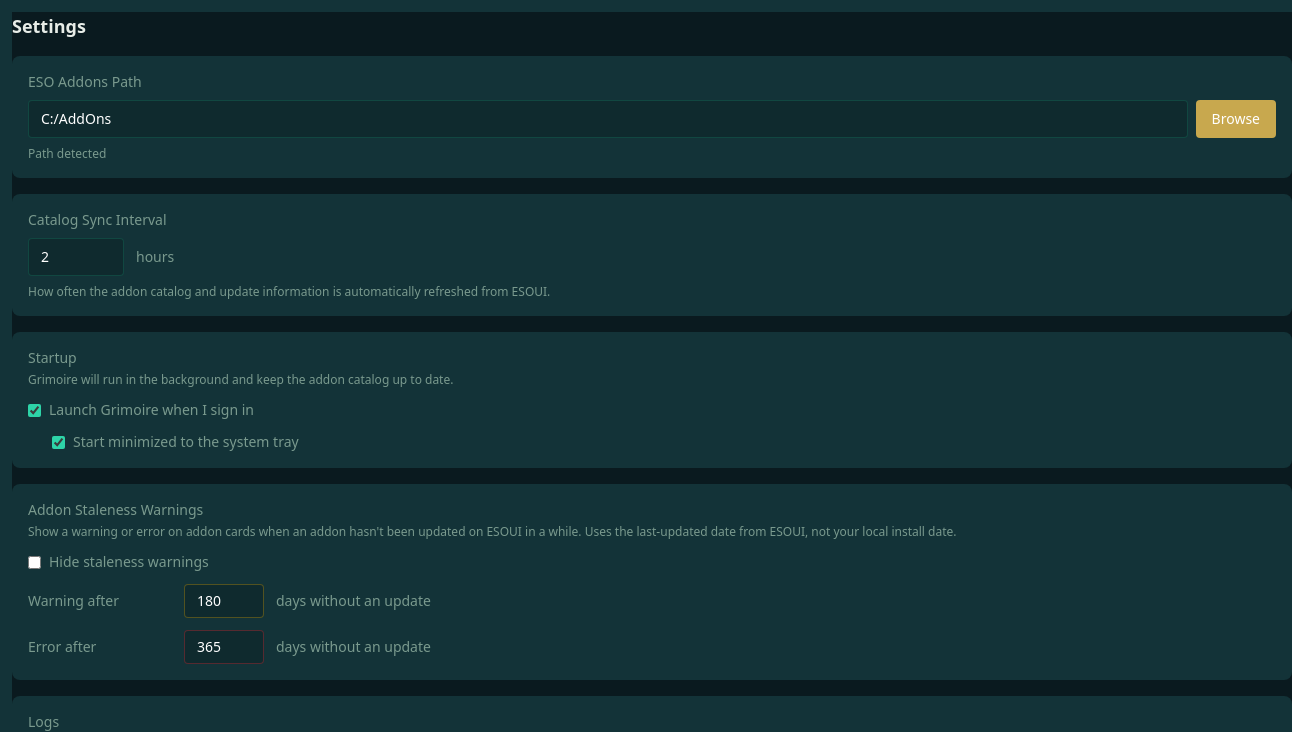
Test case: SettingsPage startup › disables launch at login
Expected: the text "Path detected" is shown, [28, 145, 106, 162]
Click the checkbox labelled "Launch Grimoire when I sign in" at (34, 410), box [28, 404, 41, 416]
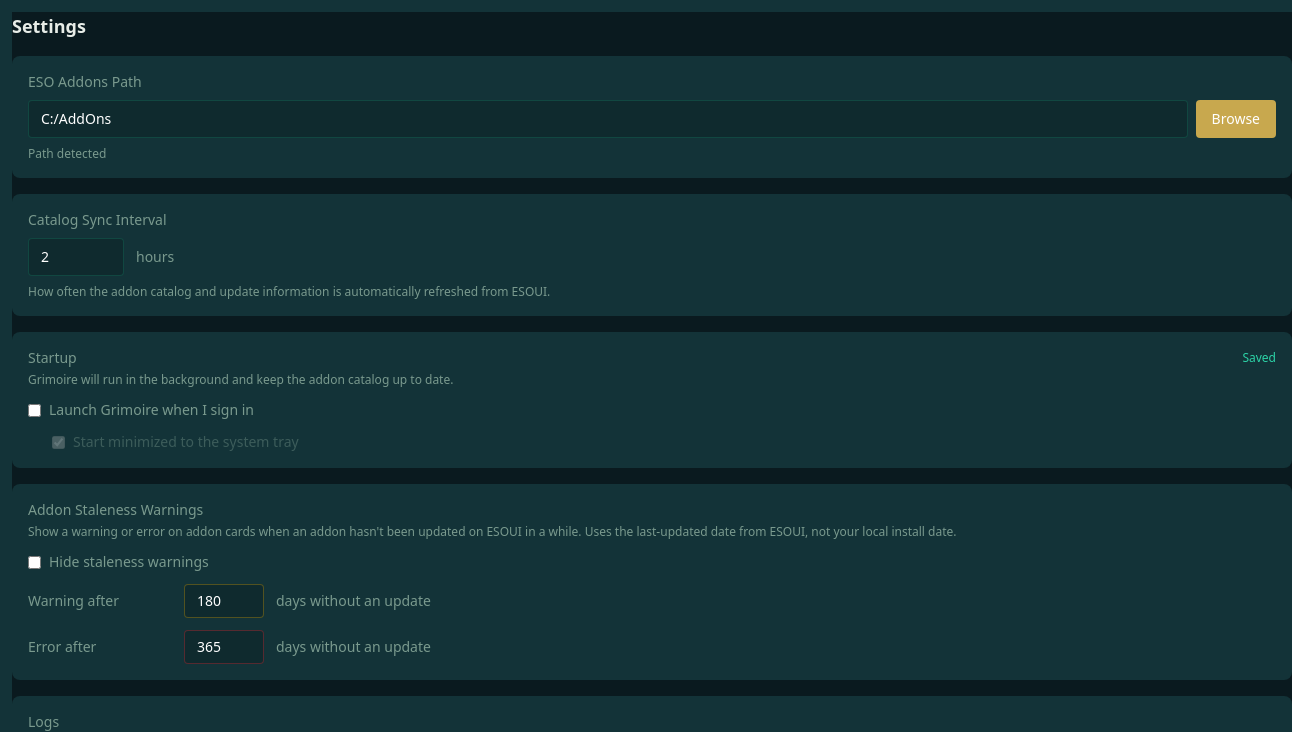
Expected: the checkbox labelled "Launch Grimoire when I sign in" is not checked, [28, 404, 41, 416]
Expected: the checkbox labelled "Start minimized to the system tray" is disabled, [52, 436, 65, 448]
